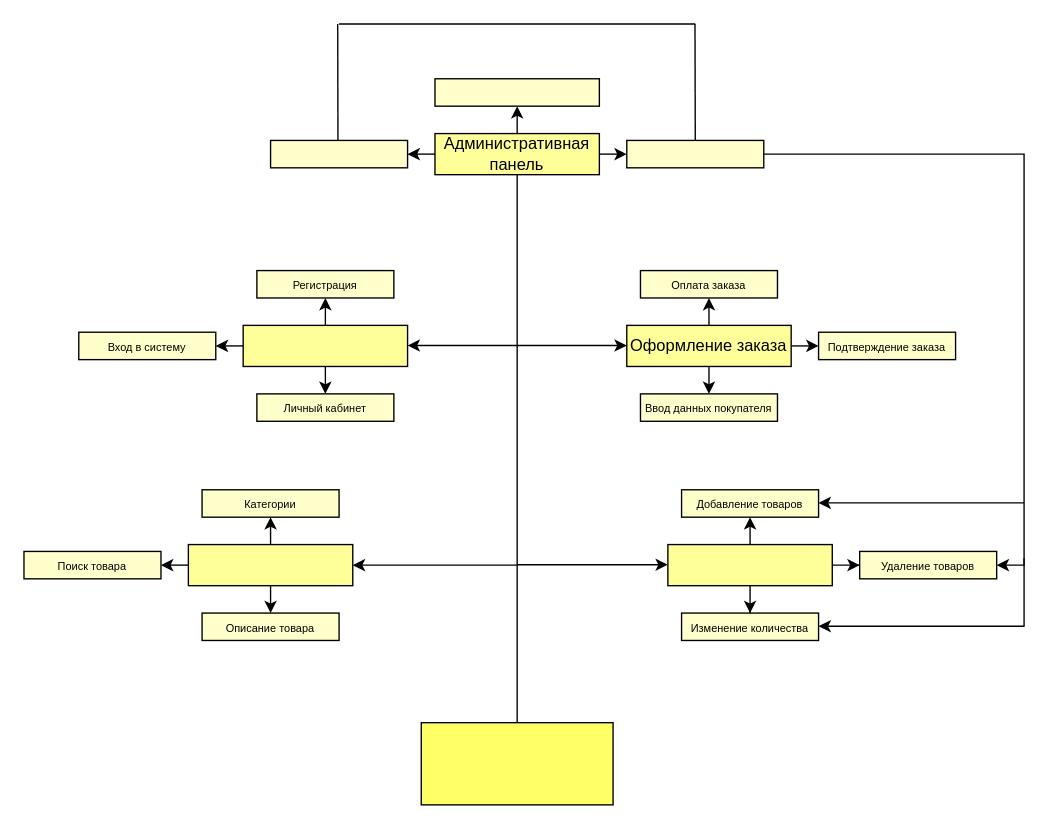
Some shapes in this 1059 by 829 pixel diagram are drawn without their labels. Here are the shapes that lost their labels. From the top down, the box of each, then its label:
(434, 77, 599, 106): Отчеты по продажам
(269, 139, 408, 168): Управление товарами
(625, 139, 764, 168): Настройки сайта
(242, 324, 408, 366): Учёт пользователей
(187, 543, 353, 586): Каталог товаров
(667, 543, 832, 586): Корзина
(420, 721, 613, 805): Интернет-магазин
